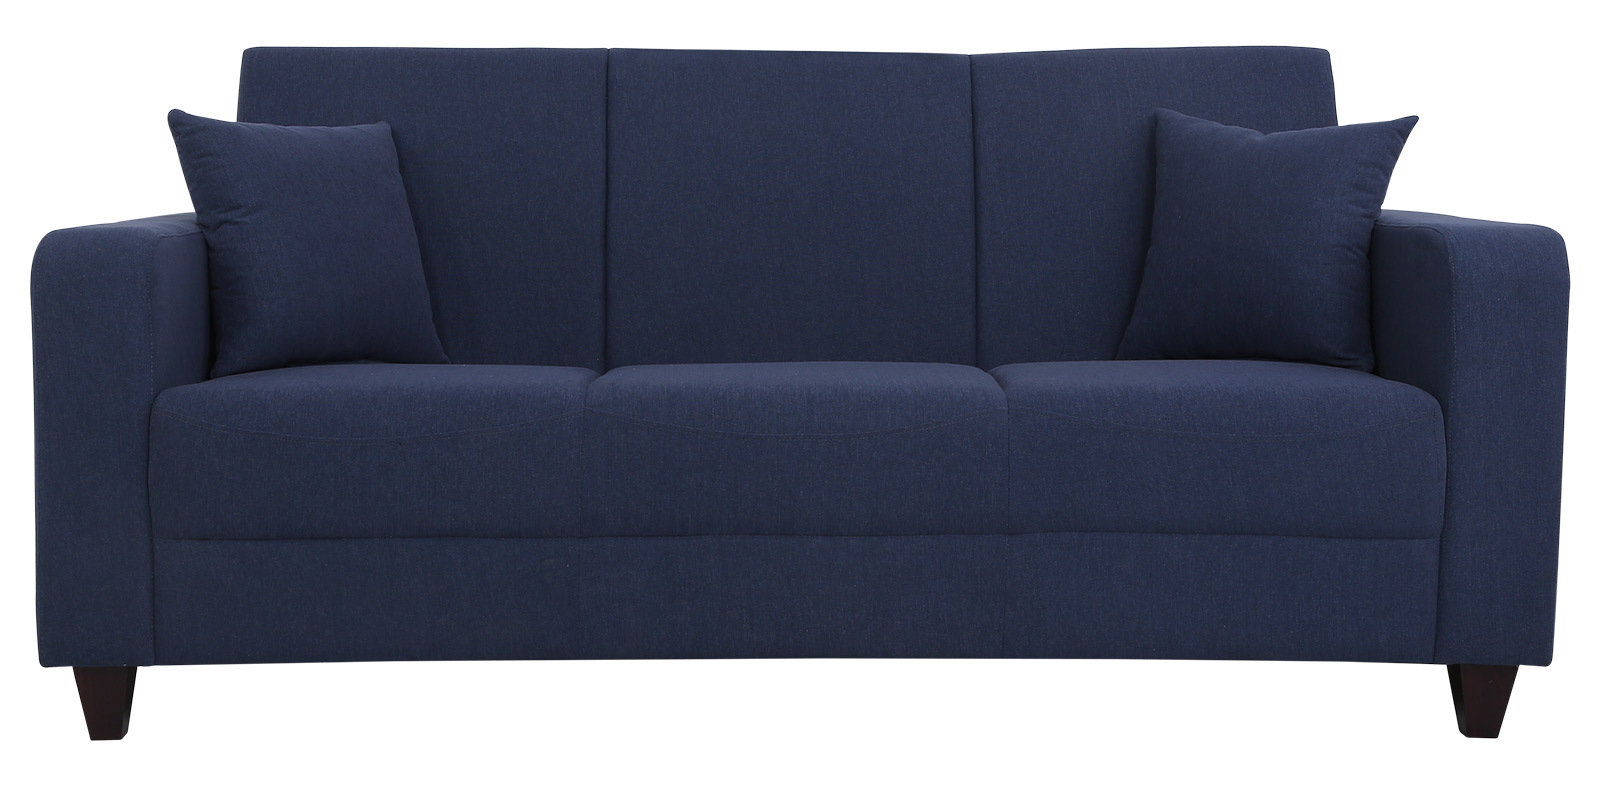Alba Three Seater Sofa in Navy Blue Colour by CasaCraft: (27, 32, 1570, 770)
